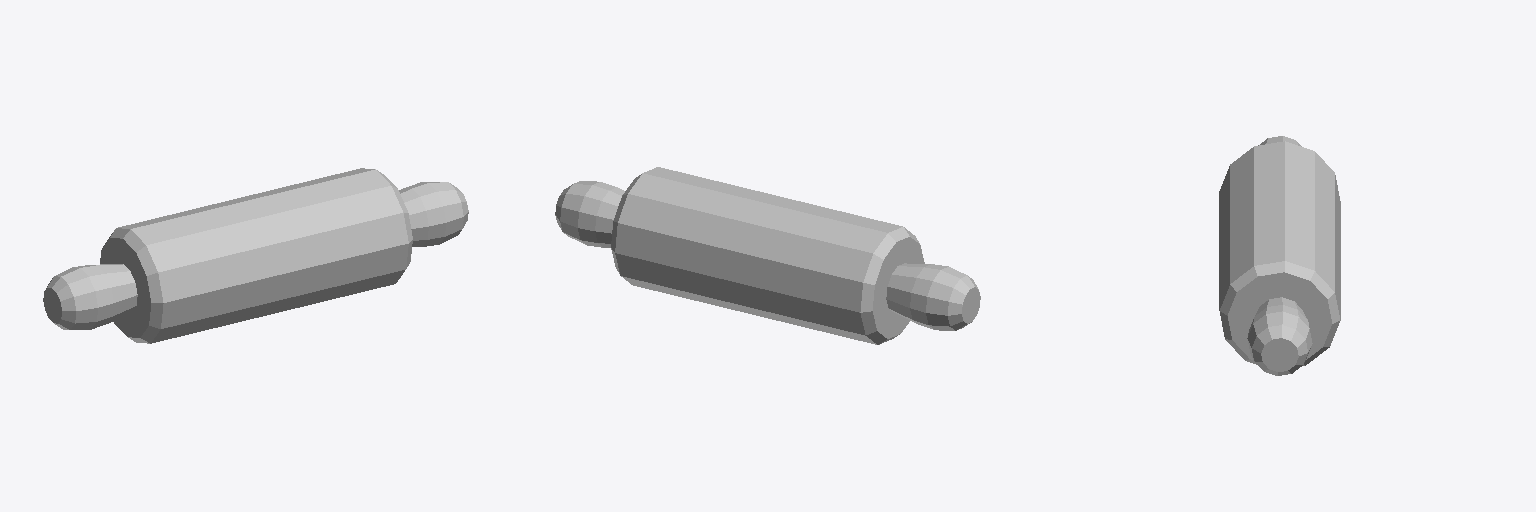
Rendered from dough_roller.obj.
3 renders of one model, left to right at view 1: azimuth 30°, elevation 25°; view 2: azimuth 150°, elevation 25°; view 3: azimuth 270°, elevation 25°, orthographic.
Parts seen in each view (by area): view 1: dough_roller; view 2: dough_roller; view 3: dough_roller.
Part boxes in pixels (left/top/right/bottom): dough_roller: left=43, top=168, right=468, bottom=343; dough_roller: left=555, top=167, right=980, bottom=344; dough_roller: left=1219, top=136, right=1340, bottom=375.
Bounding box in the file's own units: 1 × 0.2578 × 0.2578.